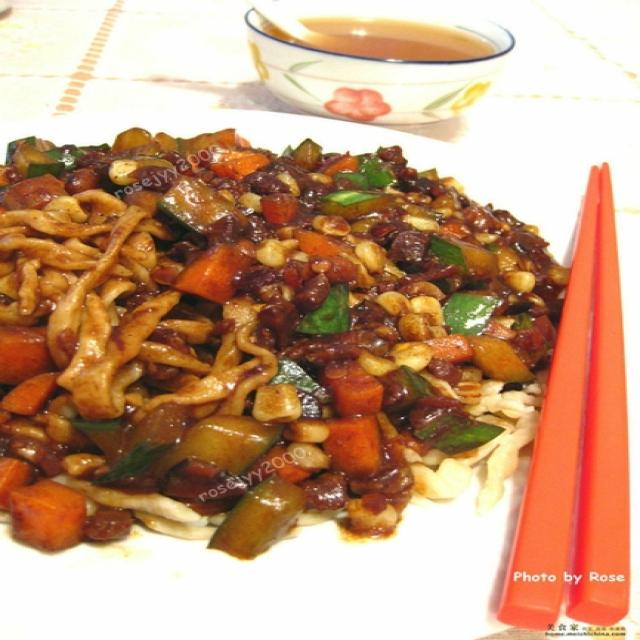面条主食: (3, 103, 565, 586)
